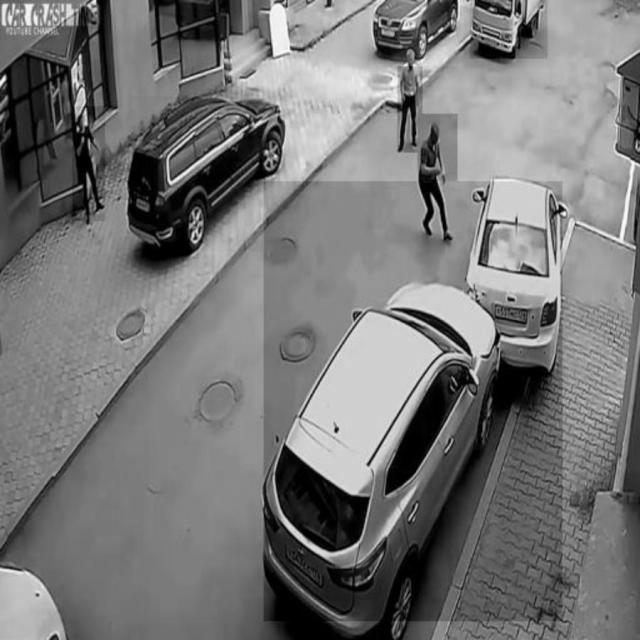accident: (264, 181, 562, 621)
person: (417, 114, 458, 246), (74, 106, 106, 220), (398, 43, 423, 153)
vehicle: (128, 96, 286, 250), (370, 1, 463, 67), (469, 0, 547, 58)
